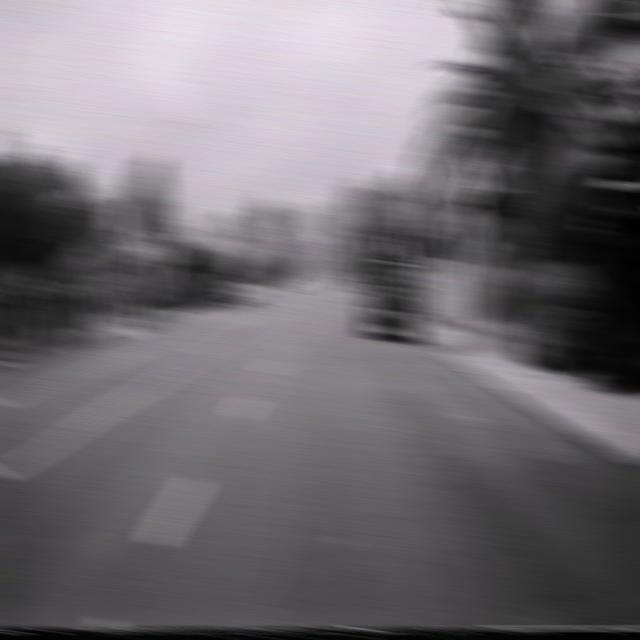pedestrianCrossing: (451, 151, 491, 208)
